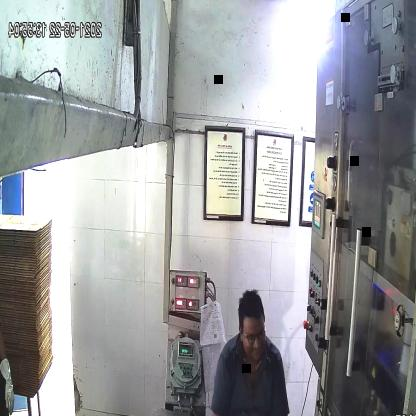goggles: (238, 321, 268, 349)
